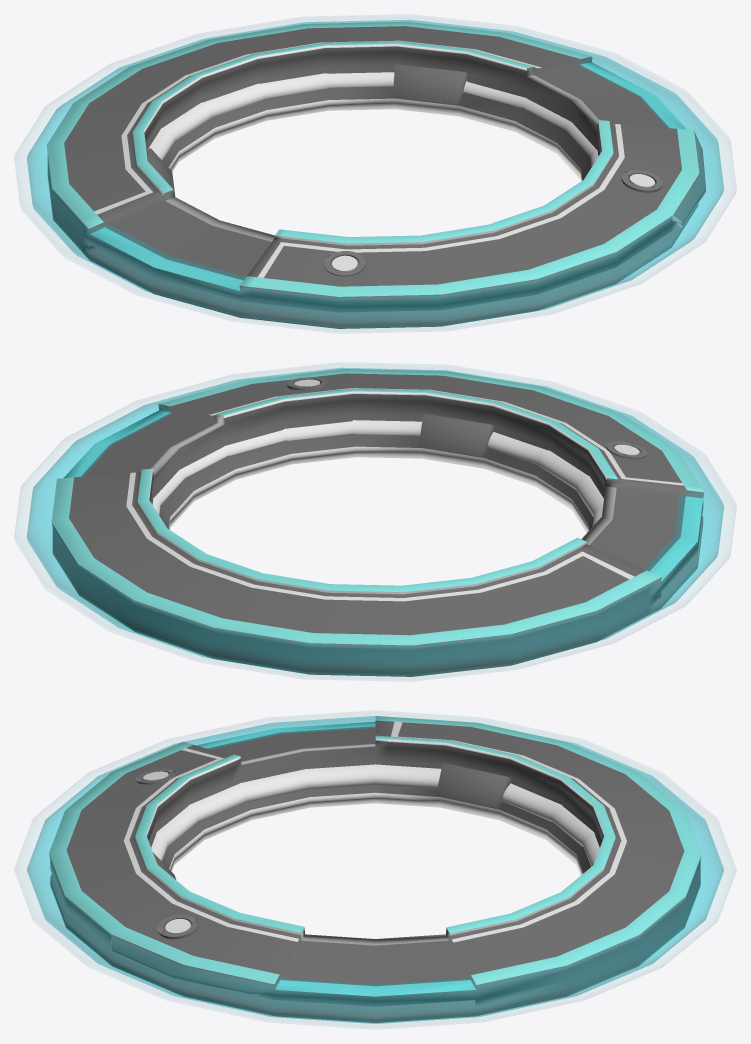
Rendered from TRONDISK.fbx.
The picture shows the model from 3 angles, top to bottom: view 1: azimuth 30°, elevation 25°; view 2: azimuth 150°, elevation 25°; view 3: azimuth 270°, elevation 25°; orthographic projection.
Visible parts, largest first — view 1: pPipe1, pTorus2, pTorus3, pTorus1, pPipe2; view 2: pPipe1, pTorus2, pTorus3, pTorus1; view 3: pPipe1, pTorus2, pTorus3, pTorus1, pPipe3.
Boxes of the visible parts, left/top/right/bottom form: pPipe1: left=46, top=21, right=705, bottom=328; pTorus2: left=27, top=20, right=723, bottom=327; pTorus3: left=14, top=14, right=736, bottom=333; pTorus1: left=148, top=72, right=598, bottom=166; pPipe2: left=324, top=251, right=365, bottom=276; pPipe1: left=51, top=369, right=704, bottom=676; pTorus2: left=27, top=368, right=723, bottom=675; pTorus3: left=14, top=362, right=736, bottom=681; pTorus1: left=152, top=420, right=603, bottom=526; pPipe1: left=49, top=716, right=701, bottom=1022; pTorus2: left=27, top=716, right=723, bottom=1023; pTorus3: left=14, top=711, right=736, bottom=1028; pTorus1: left=151, top=764, right=599, bottom=866; pPipe3: left=157, top=914, right=198, bottom=939.
Size of the model in its own units: 11.01 by 0.9749 by 11.01.
